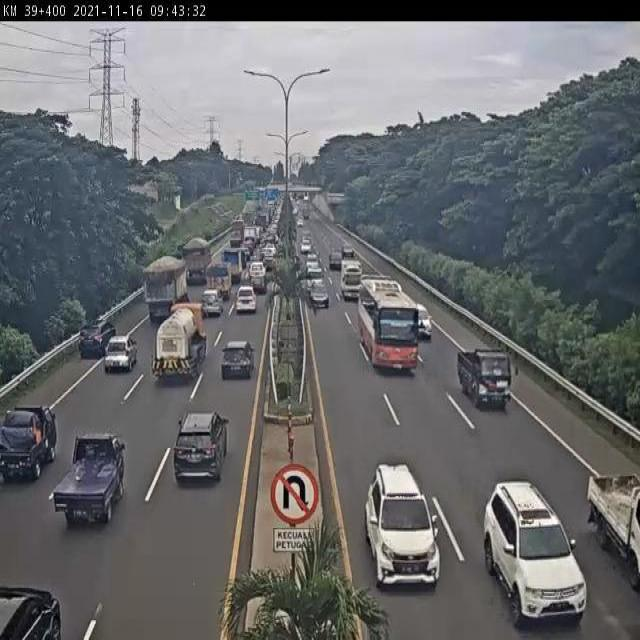big bus: (358, 273, 421, 372)
car: (483, 478, 582, 626), (365, 462, 442, 594), (54, 430, 128, 530), (4, 397, 62, 488), (173, 409, 232, 487), (459, 346, 519, 411), (79, 315, 116, 361), (104, 332, 138, 373), (221, 342, 255, 382), (201, 285, 224, 315), (235, 287, 258, 317), (250, 262, 268, 290)
small truck: (204, 263, 231, 300)
truck-m-: (152, 303, 208, 387), (143, 253, 193, 329), (180, 239, 211, 288)
